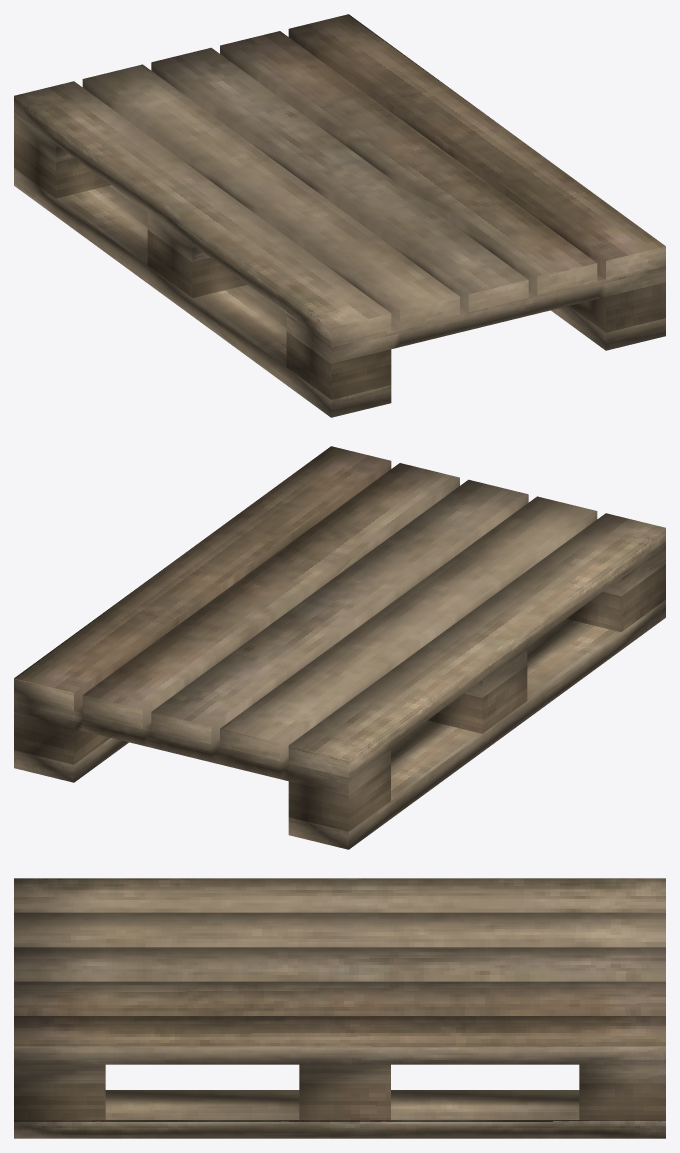
Rendered from LastPall.glb.
3 renders of one model, top to bottom at view 1: azimuth 30°, elevation 25°; view 2: azimuth 150°, elevation 25°; view 3: azimuth 270°, elevation 25°, orthographic. The views are drawn at different scales.
Visible parts, largest first — view 1: mesh; view 2: mesh; view 3: mesh.
Part boxes in pixels (x1,y1,x2,y2): mesh: [14, 14, 665, 417]; mesh: [14, 446, 665, 849]; mesh: [14, 878, 665, 1138].
Size of the model in its own units: 0.9141 by 0.2344 by 1.5.
Materials: 1 (1 with a texture image).
